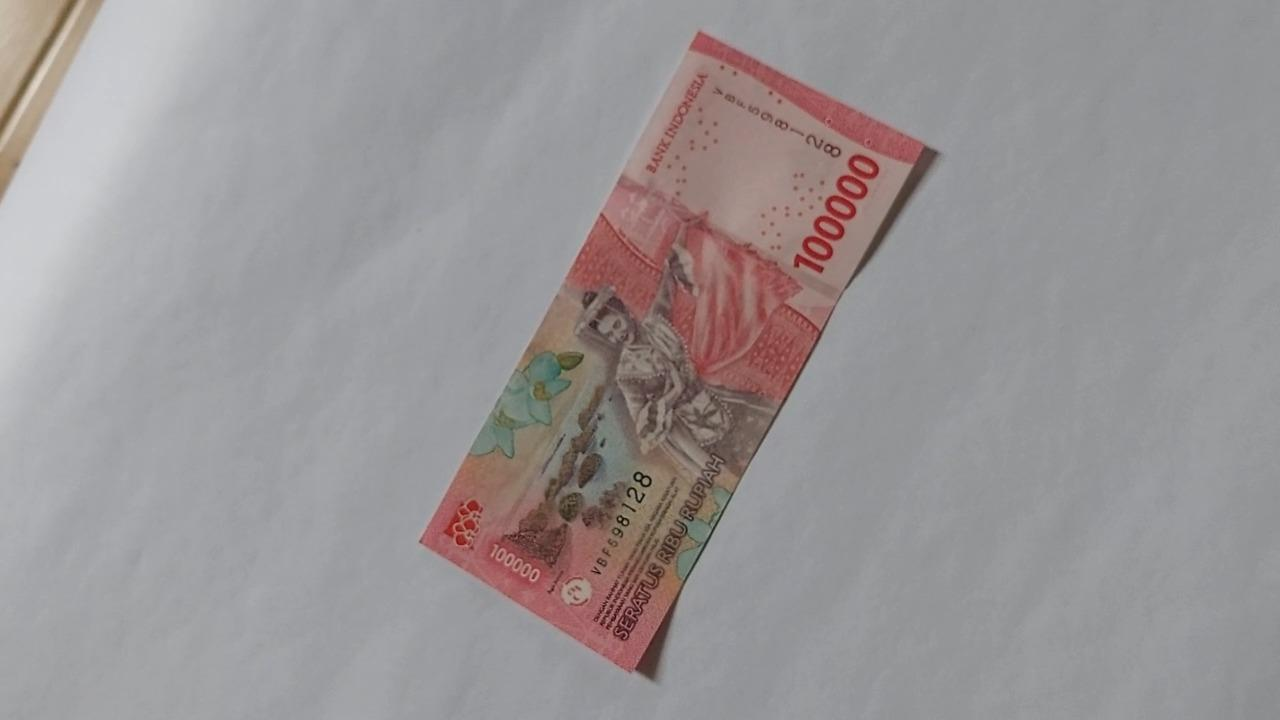Kertas: (790, 151, 880, 276)
